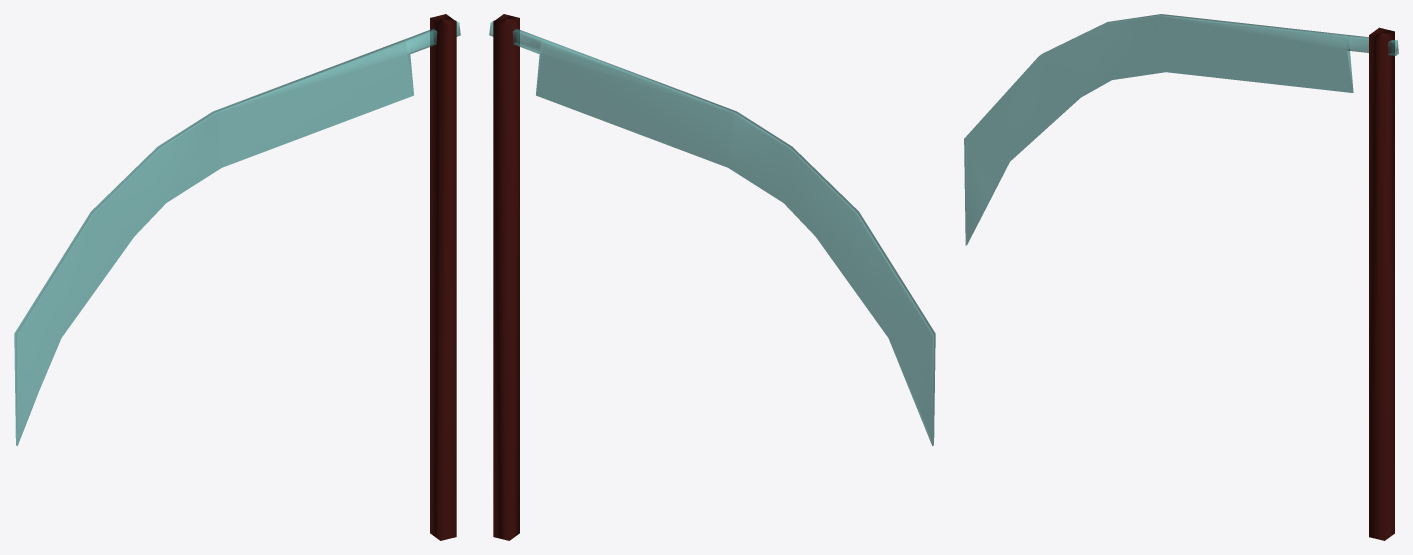
Rendered from scythe.fbx.
3 renders of one model, left to right at view 1: azimuth 30°, elevation 25°; view 2: azimuth 150°, elevation 25°; view 3: azimuth 330°, elevation 25°, orthographic. The views are drawn at different scales.
Parts seen in each view (by area): view 1: _scythe; view 2: _scythe; view 3: _scythe.
Part boxes in pixels (x1,y1,x2,y2): _scythe: [14, 14, 460, 540]; _scythe: [489, 14, 935, 540]; _scythe: [964, 14, 1398, 540].
Size of the model in its own units: 130 by 144 by 5.34.
